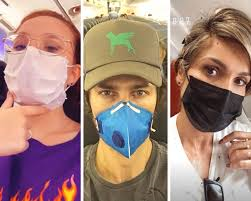with_mask: (86, 61, 165, 158), (1, 27, 80, 111), (175, 51, 250, 134)
